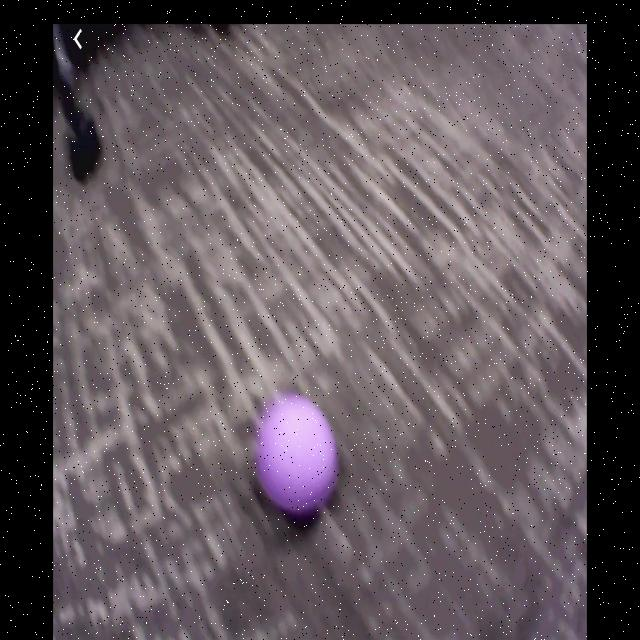ball: (256, 390, 337, 522)
